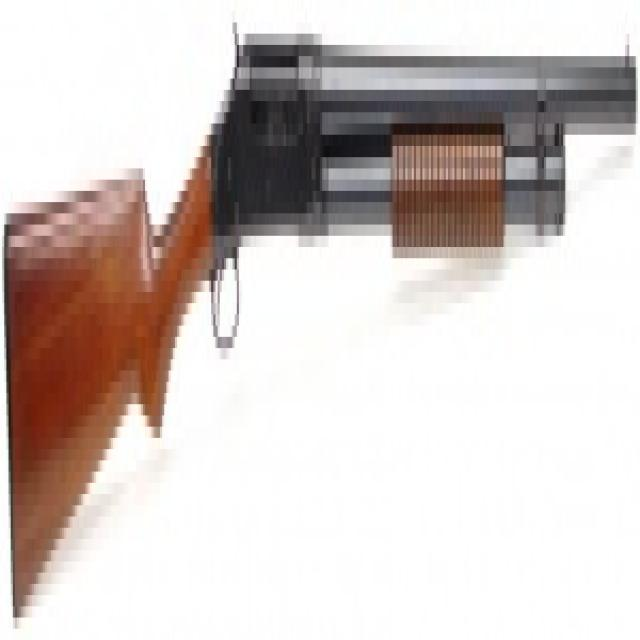rifle: (2, 1, 640, 631)
